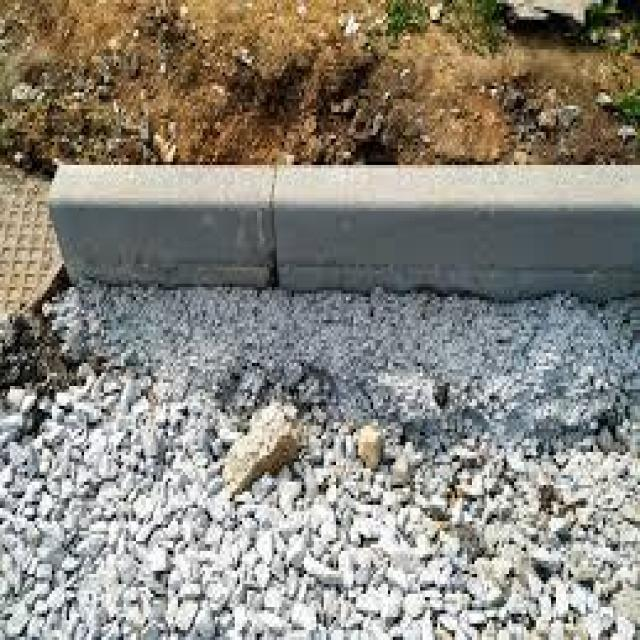curb: (47, 169, 640, 298)
